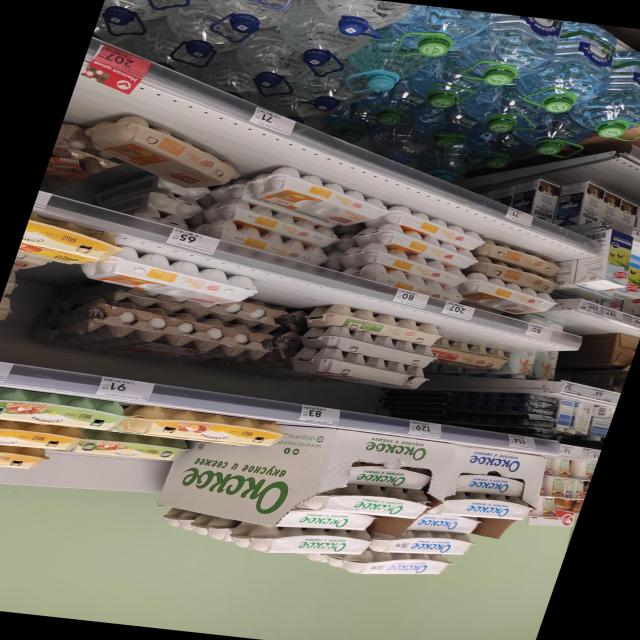organic waste: (70, 113, 255, 192), (512, 22, 639, 116), (73, 248, 261, 311), (236, 163, 402, 231), (449, 11, 566, 95), (263, 0, 378, 81), (113, 404, 292, 452), (219, 28, 322, 104), (558, 49, 640, 143), (152, 0, 255, 73), (381, 3, 491, 68), (299, 301, 449, 348), (0, 382, 131, 434), (227, 520, 372, 564), (16, 217, 125, 270), (340, 43, 433, 100), (402, 57, 495, 114), (564, 226, 640, 295), (459, 82, 552, 138), (305, 480, 431, 521), (68, 427, 194, 467), (195, 0, 295, 48), (310, 0, 406, 45), (346, 546, 455, 583), (367, 525, 476, 562), (0, 414, 88, 459), (546, 178, 616, 234), (92, 0, 176, 46), (512, 115, 596, 161), (428, 489, 534, 524), (422, 338, 515, 375), (280, 507, 375, 535), (511, 176, 565, 223), (348, 463, 433, 491), (0, 438, 54, 481), (402, 512, 480, 537), (453, 472, 527, 498)
